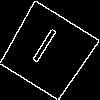I: (23, 26, 61, 73)
